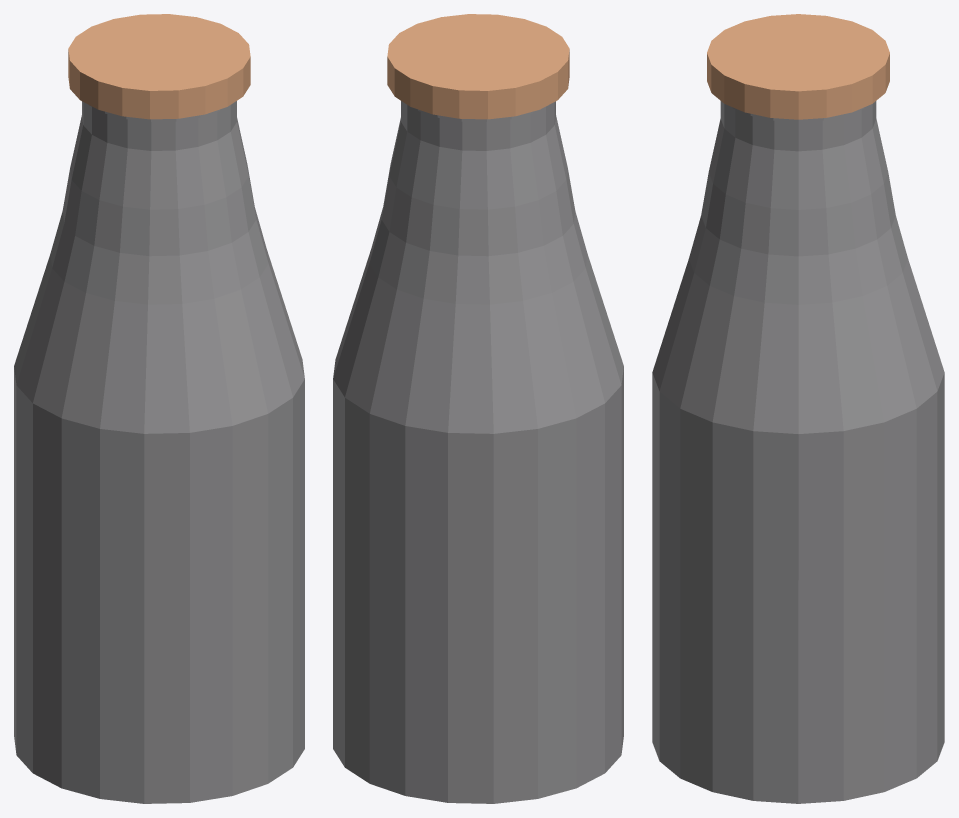
File: Bottle4.fbx
The picture shows the model from 3 angles, left to right: view 1: azimuth 30°, elevation 25°; view 2: azimuth 150°, elevation 25°; view 3: azimuth 270°, elevation 25°; orthographic projection.
Visible parts, largest first — view 1: Buttle2.004; view 2: Buttle2.004; view 3: Buttle2.004.
Boxes of the visible parts, x1,y1,x2,y2 form: Buttle2.004: (14, 14, 304, 803); Buttle2.004: (333, 14, 623, 803); Buttle2.004: (652, 14, 944, 803).
Size of the model in its own units: 595 by 1549 by 595.
